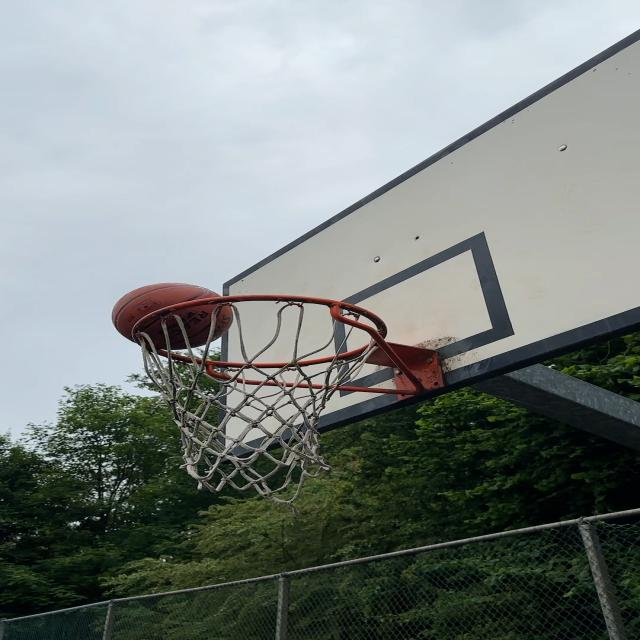rebound_hit: (113, 282, 234, 352)
